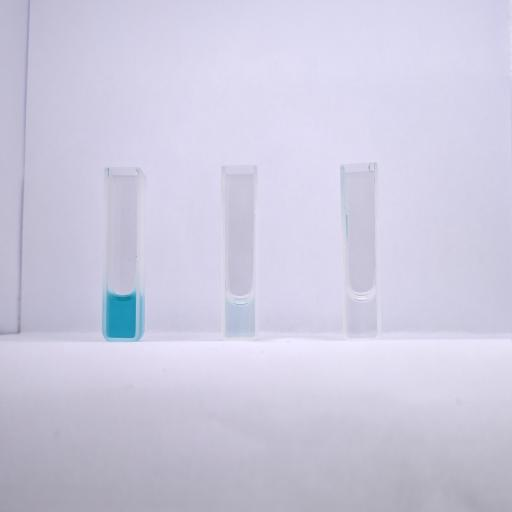cuvette: (338, 160, 384, 342), (100, 165, 142, 343), (220, 164, 260, 343)
liquid: (108, 290, 135, 338), (226, 294, 256, 337), (347, 291, 375, 337)
